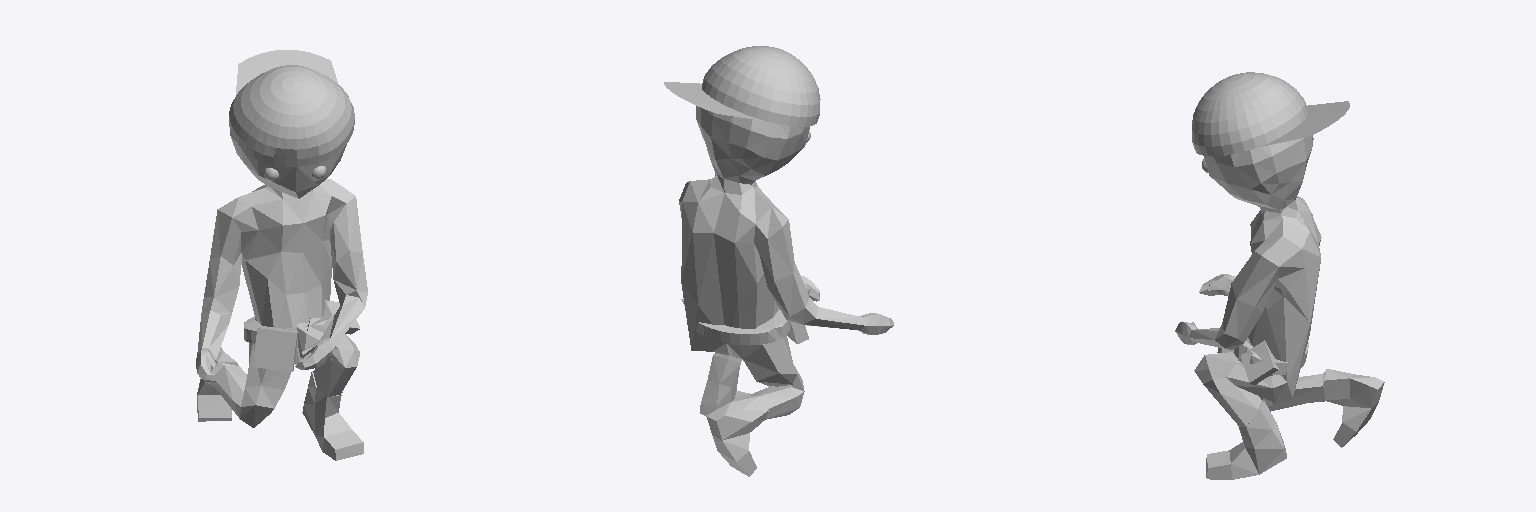
Rendered from Main_Character_TireRepair_16.obj.
3 views of the same model, side by side, from view 1: azimuth 30°, elevation 25°; view 2: azimuth 150°, elevation 25°; view 3: azimuth 270°, elevation 25° (orthographic).
Visible parts, largest first — view 1: Main_Character_Test.003_Main_Character_Test.004; view 2: Main_Character_Test.003_Main_Character_Test.004; view 3: Main_Character_Test.003_Main_Character_Test.004.
Boxes of the visible parts, box(x1,y1,x2,y2) form: Main_Character_Test.003_Main_Character_Test.004: box(196, 50, 367, 460); Main_Character_Test.003_Main_Character_Test.004: box(664, 46, 893, 476); Main_Character_Test.003_Main_Character_Test.004: box(1175, 72, 1384, 479).
Bounding box in the file's own units: 1.66 × 3.29 × 1.65.